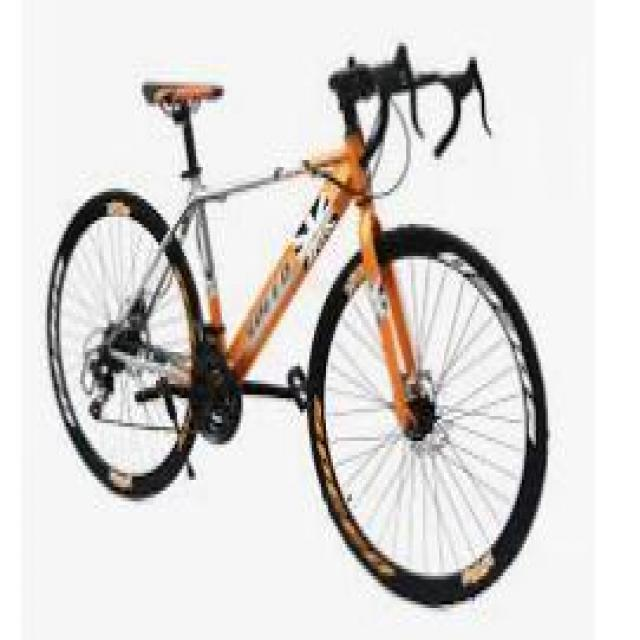bicycle: (46, 65, 544, 595)
